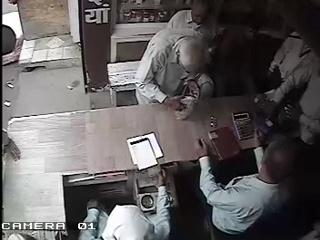Normal: (194, 134, 300, 240), (134, 28, 214, 114), (79, 168, 171, 240)
